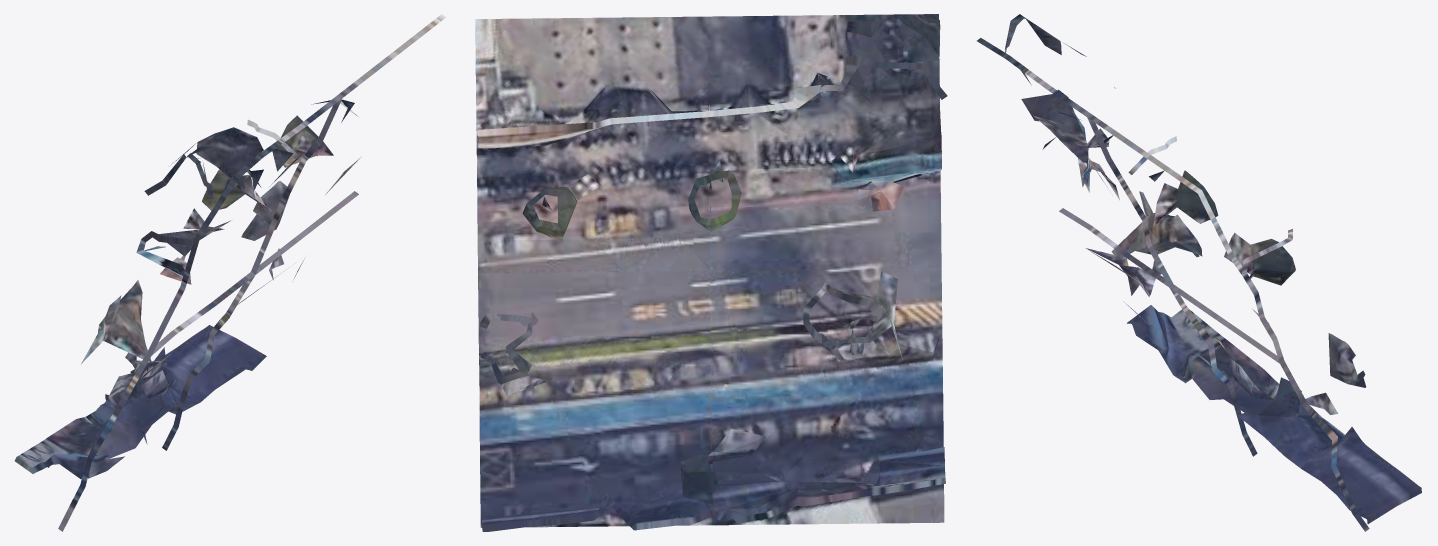
The picture shows the model from 3 angles, left to right: view 1: azimuth 30°, elevation 25°; view 2: azimuth 150°, elevation 25°; view 3: azimuth 270°, elevation 25°; orthographic projection. The views are drawn at different scales.
Bounding box in the file's own units: 40.17 × 36.31 × 36.6.
1 material, 1 textured.
